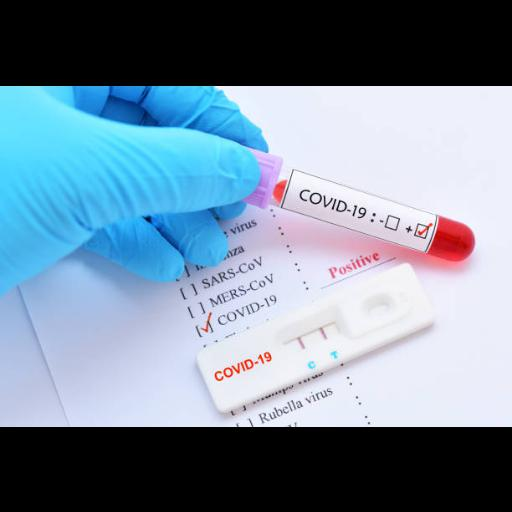Pos: (196, 260, 438, 412)
